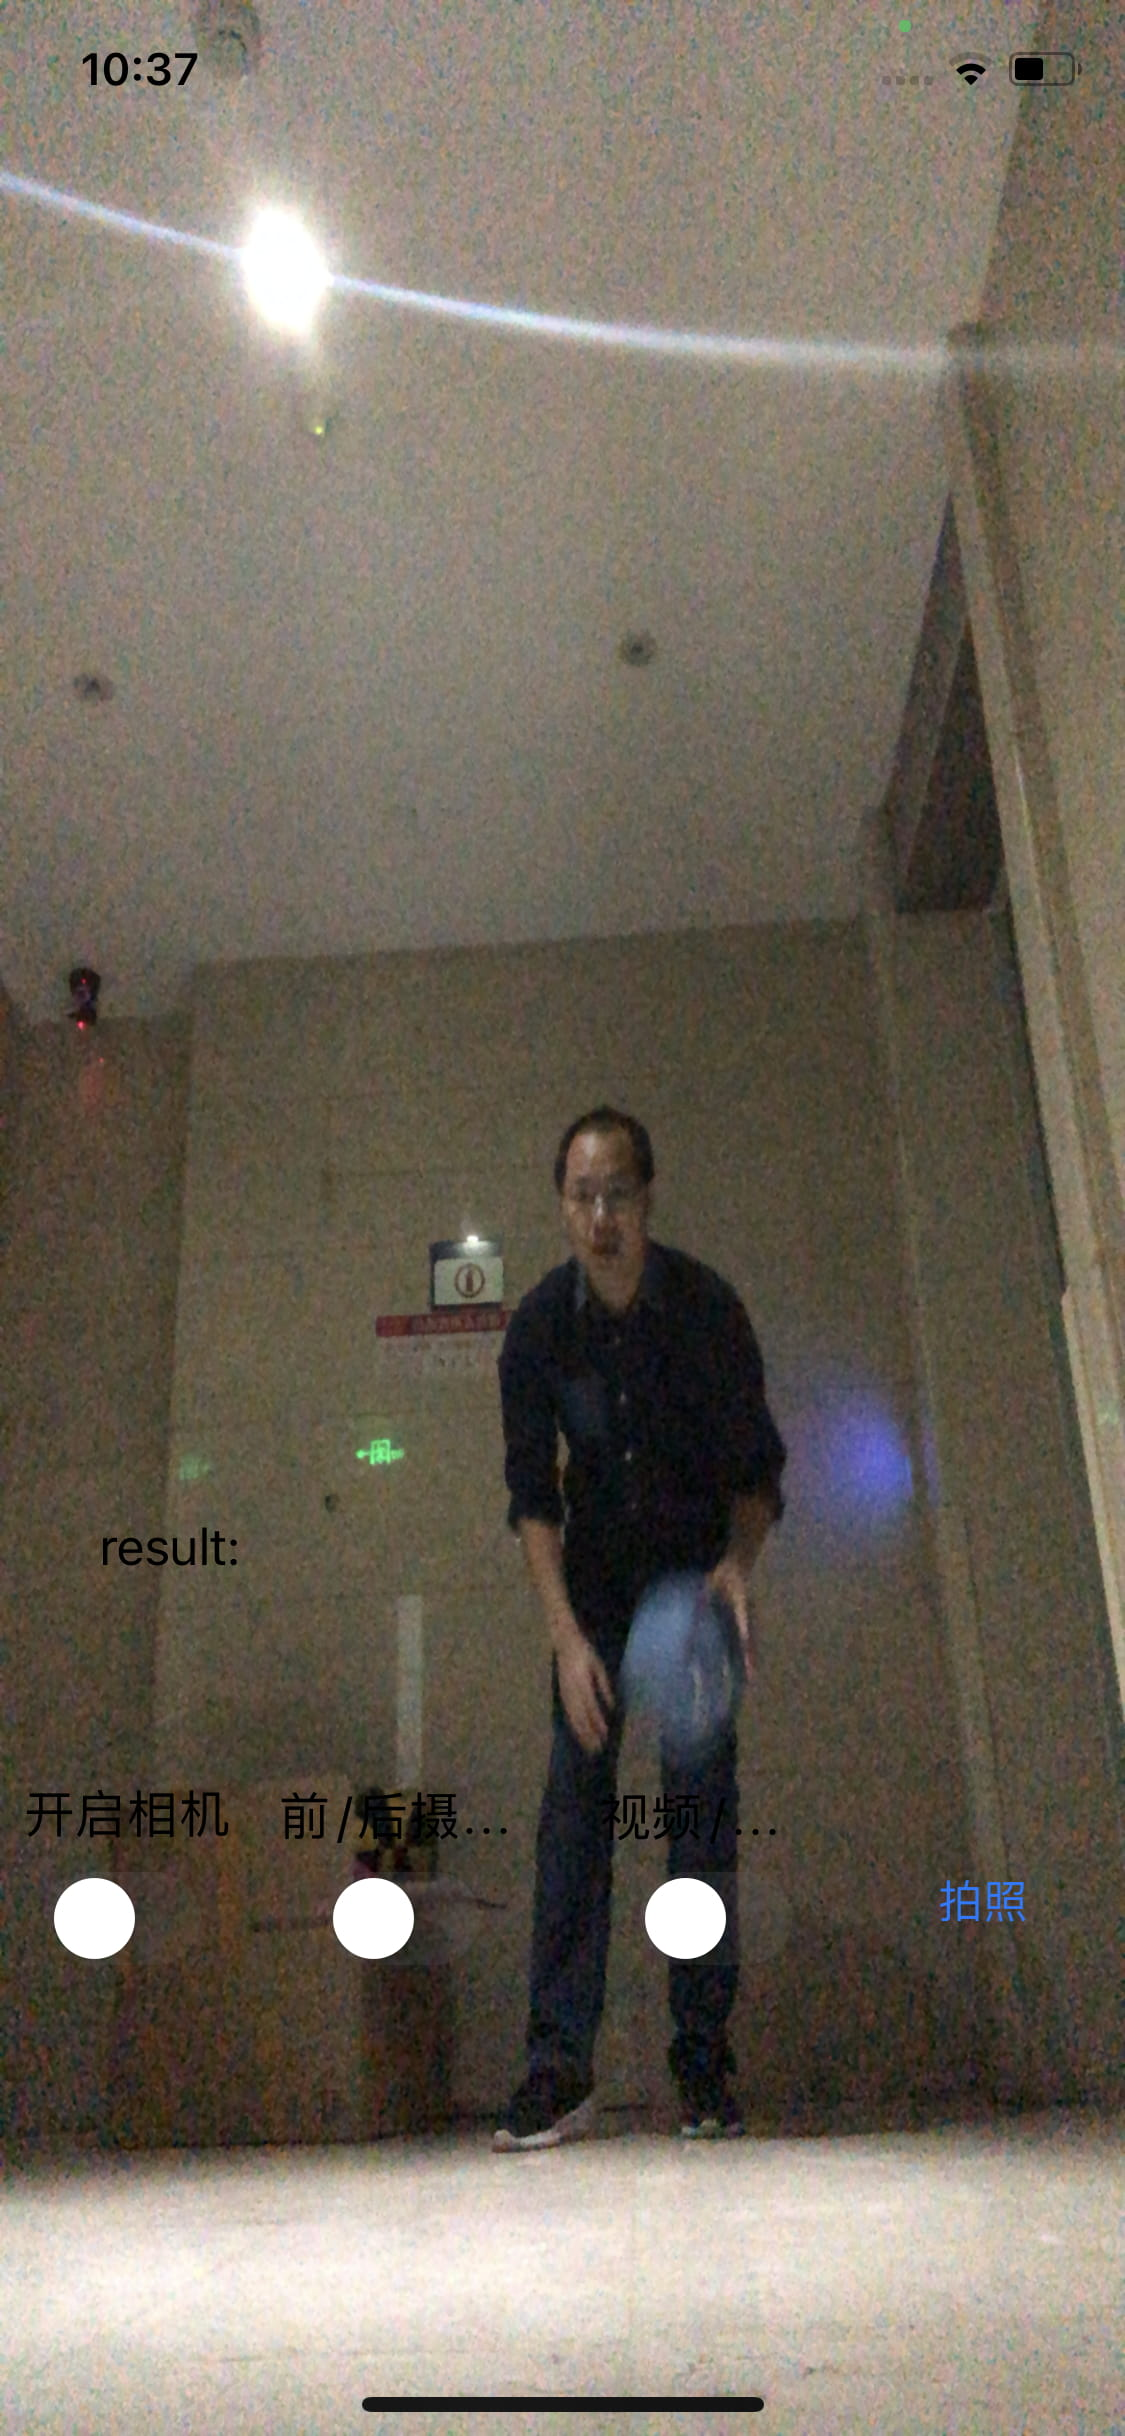ball: (617, 1582, 738, 1745)
